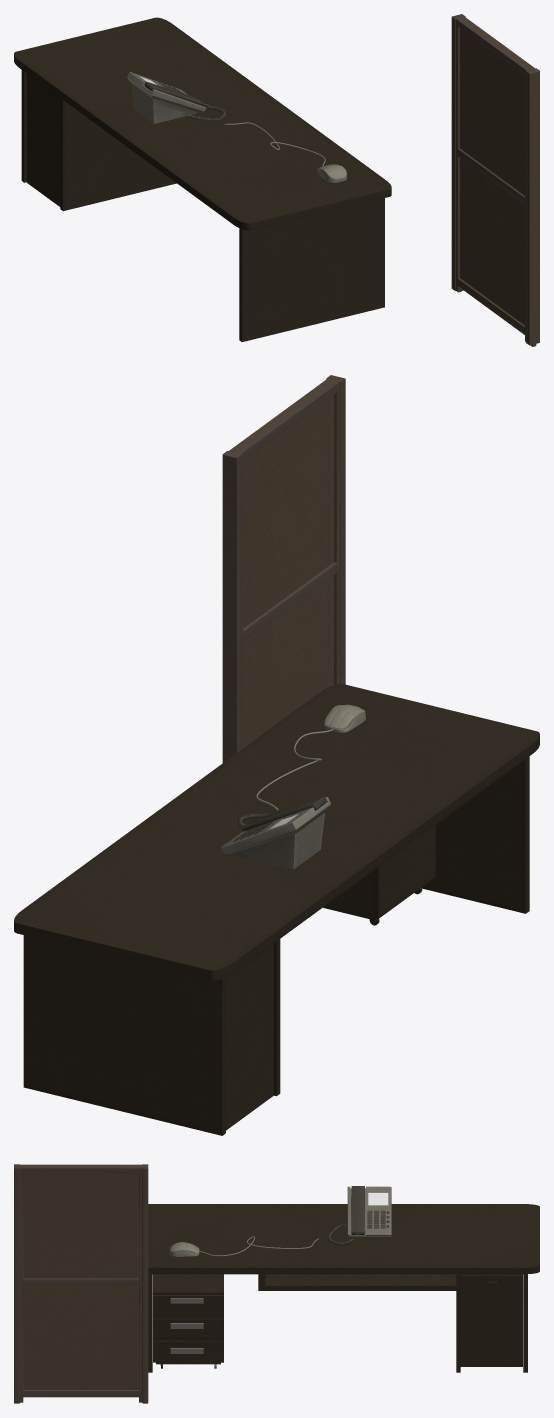
Rendered from M_Composition_V1.fbx.
The picture shows the model from 3 angles, top to bottom: view 1: azimuth 30°, elevation 25°; view 2: azimuth 150°, elevation 25°; view 3: azimuth 270°, elevation 25°; orthographic projection. The views are drawn at different scales.
Visible parts, largest first — view 1: Cube.003, Shirma, Telephone, Mouse; view 2: Cube.003, Shirma, Telephone, Mouse; view 3: Cube.003, Shirma, Telephone, Mouse.
Boxes of the visible parts, x1=… form: Cube.003: x1=14, y1=17, x2=391, y2=341; Shirma: x1=451, y1=14, x2=539, y2=346; Telephone: x1=127, y1=72, x2=226, y2=123; Mouse: x1=224, y1=122, x2=347, y2=182; Cube.003: x1=14, y1=684, x2=539, y2=1135; Shirma: x1=222, y1=375, x2=345, y2=762; Telephone: x1=221, y1=797, x2=331, y2=869; Mouse: x1=256, y1=704, x2=365, y2=810; Cube.003: x1=148, y1=1204, x2=539, y2=1372; Shirma: x1=14, y1=1164, x2=148, y2=1403; Telephone: x1=328, y1=1186, x2=391, y2=1245; Mouse: x1=169, y1=1236, x2=319, y2=1256.
Size of the model in its own units: 582 by 677 by 1365.
